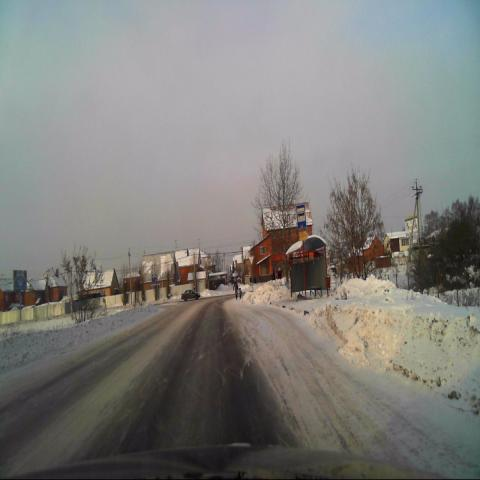5_16: (296, 204, 306, 230)
